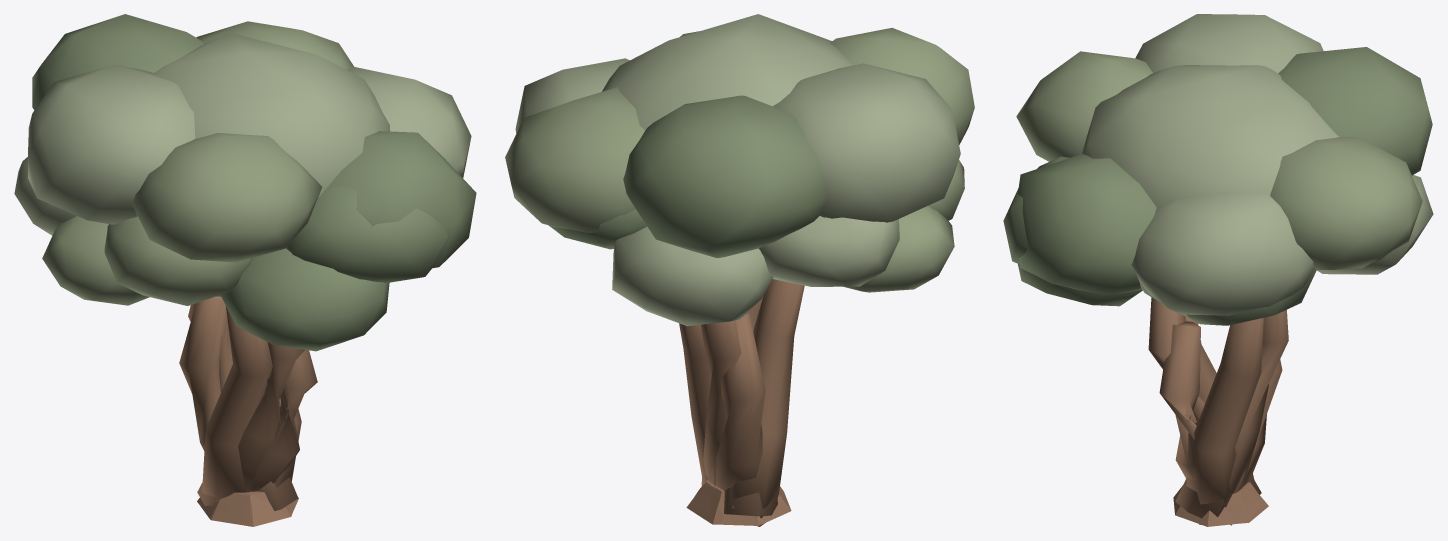
The model's file is tree.olive.glb.
The picture shows the model from 3 angles, left to right: view 1: azimuth 30°, elevation 25°; view 2: azimuth 150°, elevation 25°; view 3: azimuth 270°, elevation 25°; orthographic projection. The views are drawn at different scales.
Visible parts, largest first — view 1: tree.olive.v2.canopy, tree.olive.v0.canopy, tree.olive.v1.canopy, tree.olive.v1.trunk, tree.olive.v0.trunk, tree.olive.v2.trunk; view 2: tree.olive.v2.canopy, tree.olive.v1.canopy, tree.olive.v0.trunk, tree.olive.v0.canopy, tree.olive.v1.trunk, tree.olive.v2.trunk; view 3: tree.olive.v2.canopy, tree.olive.v0.trunk, tree.olive.v2.trunk, tree.olive.v1.trunk, tree.olive.v1.canopy, tree.olive.v0.canopy.
Part boxes in pixels (x1,y1,x2,y2): tree.olive.v2.canopy: [28, 14, 476, 268]; tree.olive.v0.canopy: [14, 157, 450, 305]; tree.olive.v1.canopy: [42, 216, 389, 351]; tree.olive.v1.trunk: [179, 296, 317, 526]; tree.olive.v0.trunk: [197, 306, 301, 524]; tree.olive.v2.trunk: [188, 303, 304, 524]; tree.olive.v2.canopy: [505, 14, 974, 258]; tree.olive.v1.canopy: [612, 206, 954, 326]; tree.olive.v0.trunk: [679, 279, 804, 526]; tree.olive.v0.canopy: [549, 160, 964, 286]; tree.olive.v1.trunk: [687, 312, 791, 524]; tree.olive.v2.trunk: [686, 296, 790, 523]; tree.olive.v2.canopy: [1016, 14, 1432, 317]; tree.olive.v0.trunk: [1177, 316, 1263, 526]; tree.olive.v2.trunk: [1148, 297, 1288, 523]; tree.olive.v1.trunk: [1159, 321, 1282, 525]; tree.olive.v1.canopy: [1018, 175, 1433, 325]; tree.olive.v0.canopy: [1003, 156, 1391, 302].
Bounding box in the file's own units: 1.84 × 1.99 × 1.74.
